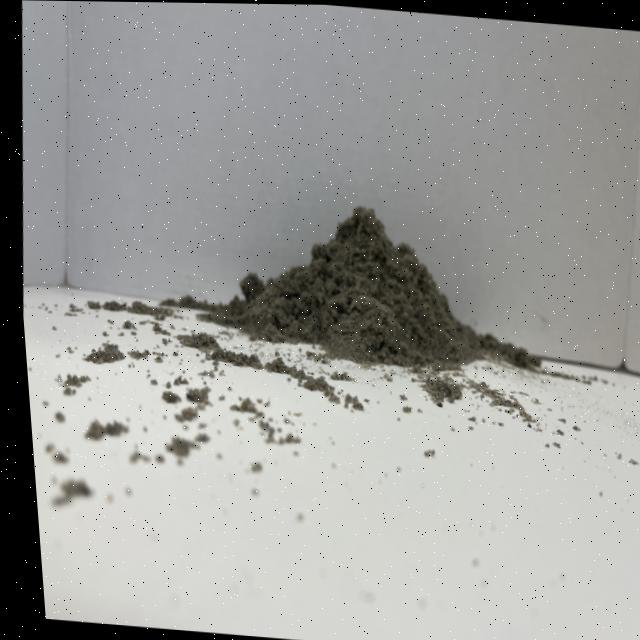sand: (195, 172, 518, 397)
